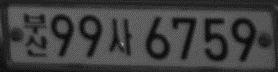5: (203, 16, 229, 62)
6: (144, 16, 170, 60)
7: (171, 16, 197, 60)
9: (230, 16, 257, 62), (78, 15, 103, 58), (50, 14, 74, 56)
부산_V: (22, 12, 48, 57)
사: (108, 17, 133, 55)
